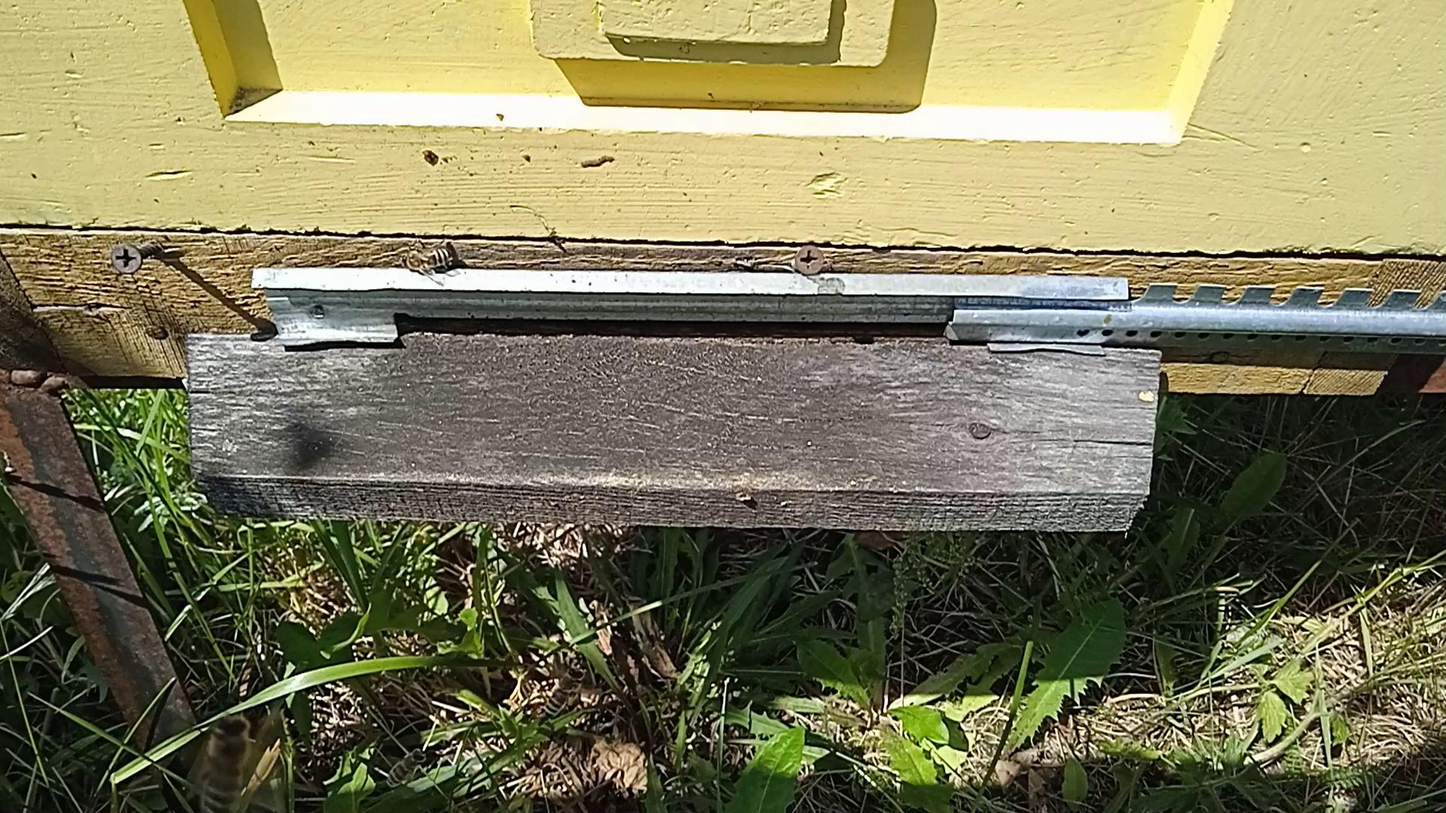worker-bee: (196, 716, 255, 813), (542, 665, 586, 718), (403, 241, 459, 273), (386, 748, 429, 788)
